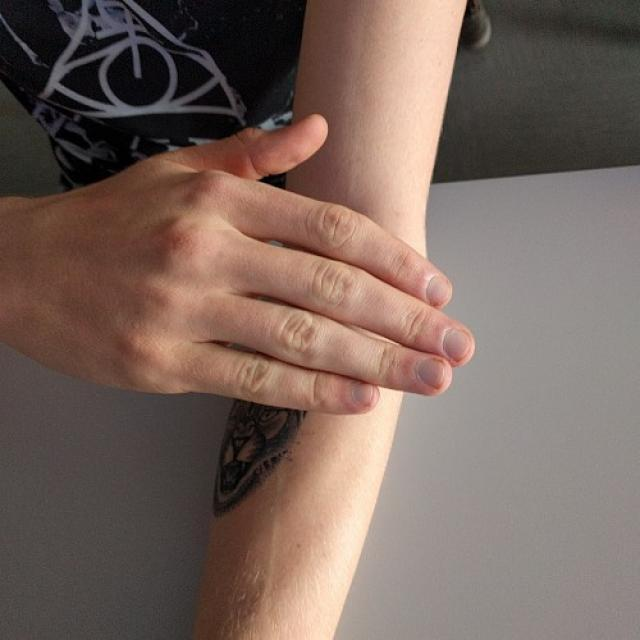paper: (136, 111, 473, 424)
